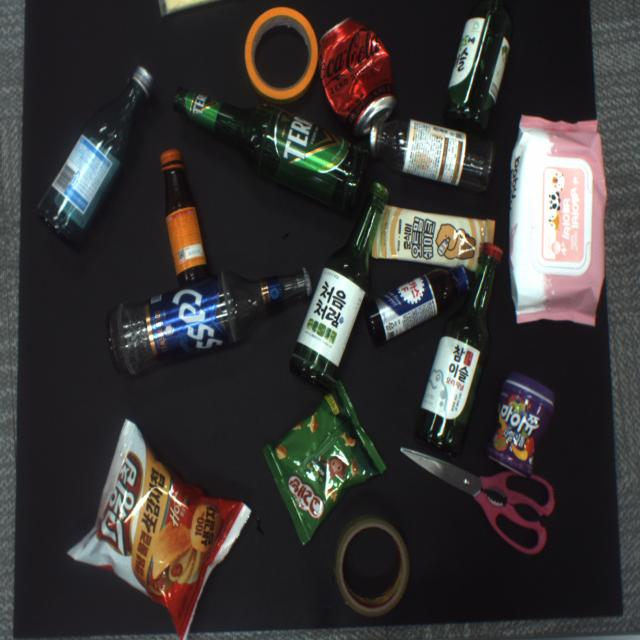beer-bottle: (171, 86, 371, 213), (107, 267, 313, 377)
soju-bottle: (37, 65, 156, 245), (292, 179, 389, 388), (414, 243, 503, 457), (444, 0, 515, 135)
